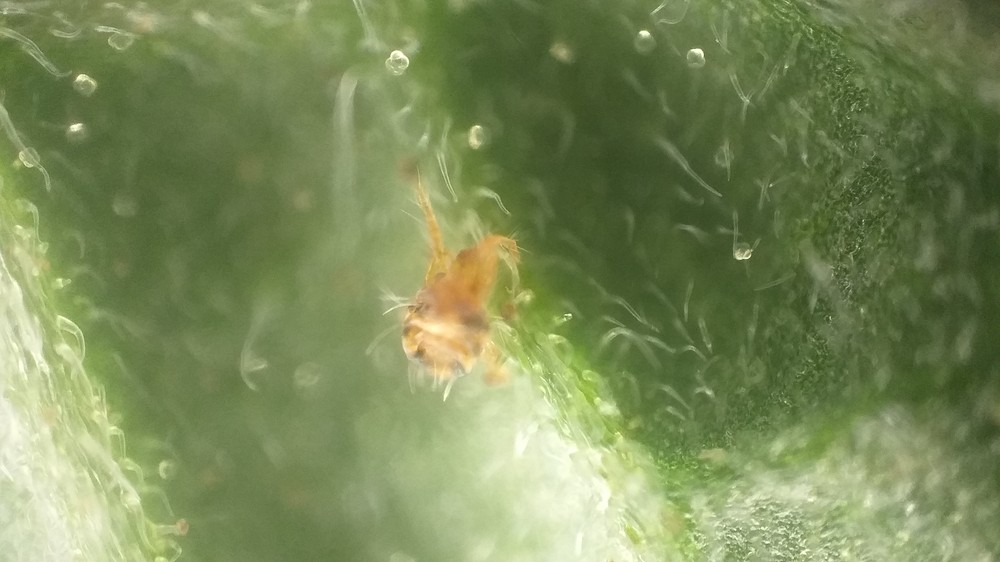Aracnido Rojo: (358, 177, 546, 434)
